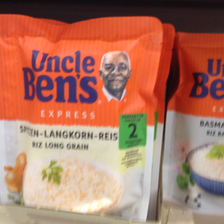rice: (1, 14, 165, 224), (164, 32, 224, 217)
